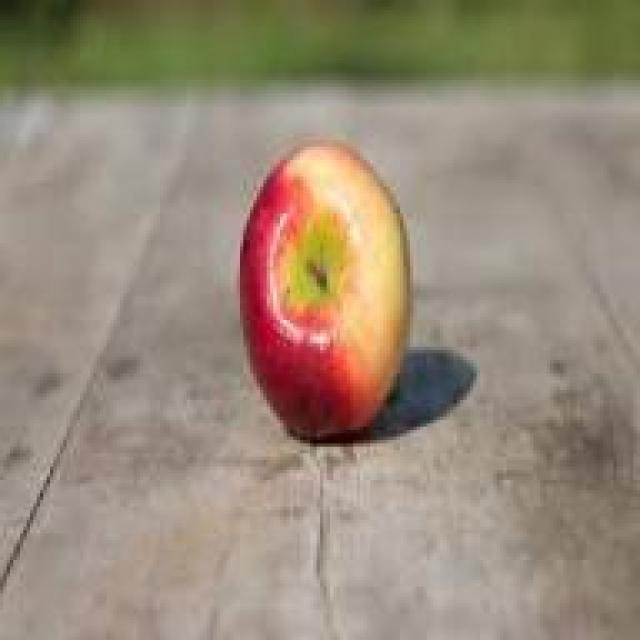apple: (240, 140, 413, 450)
